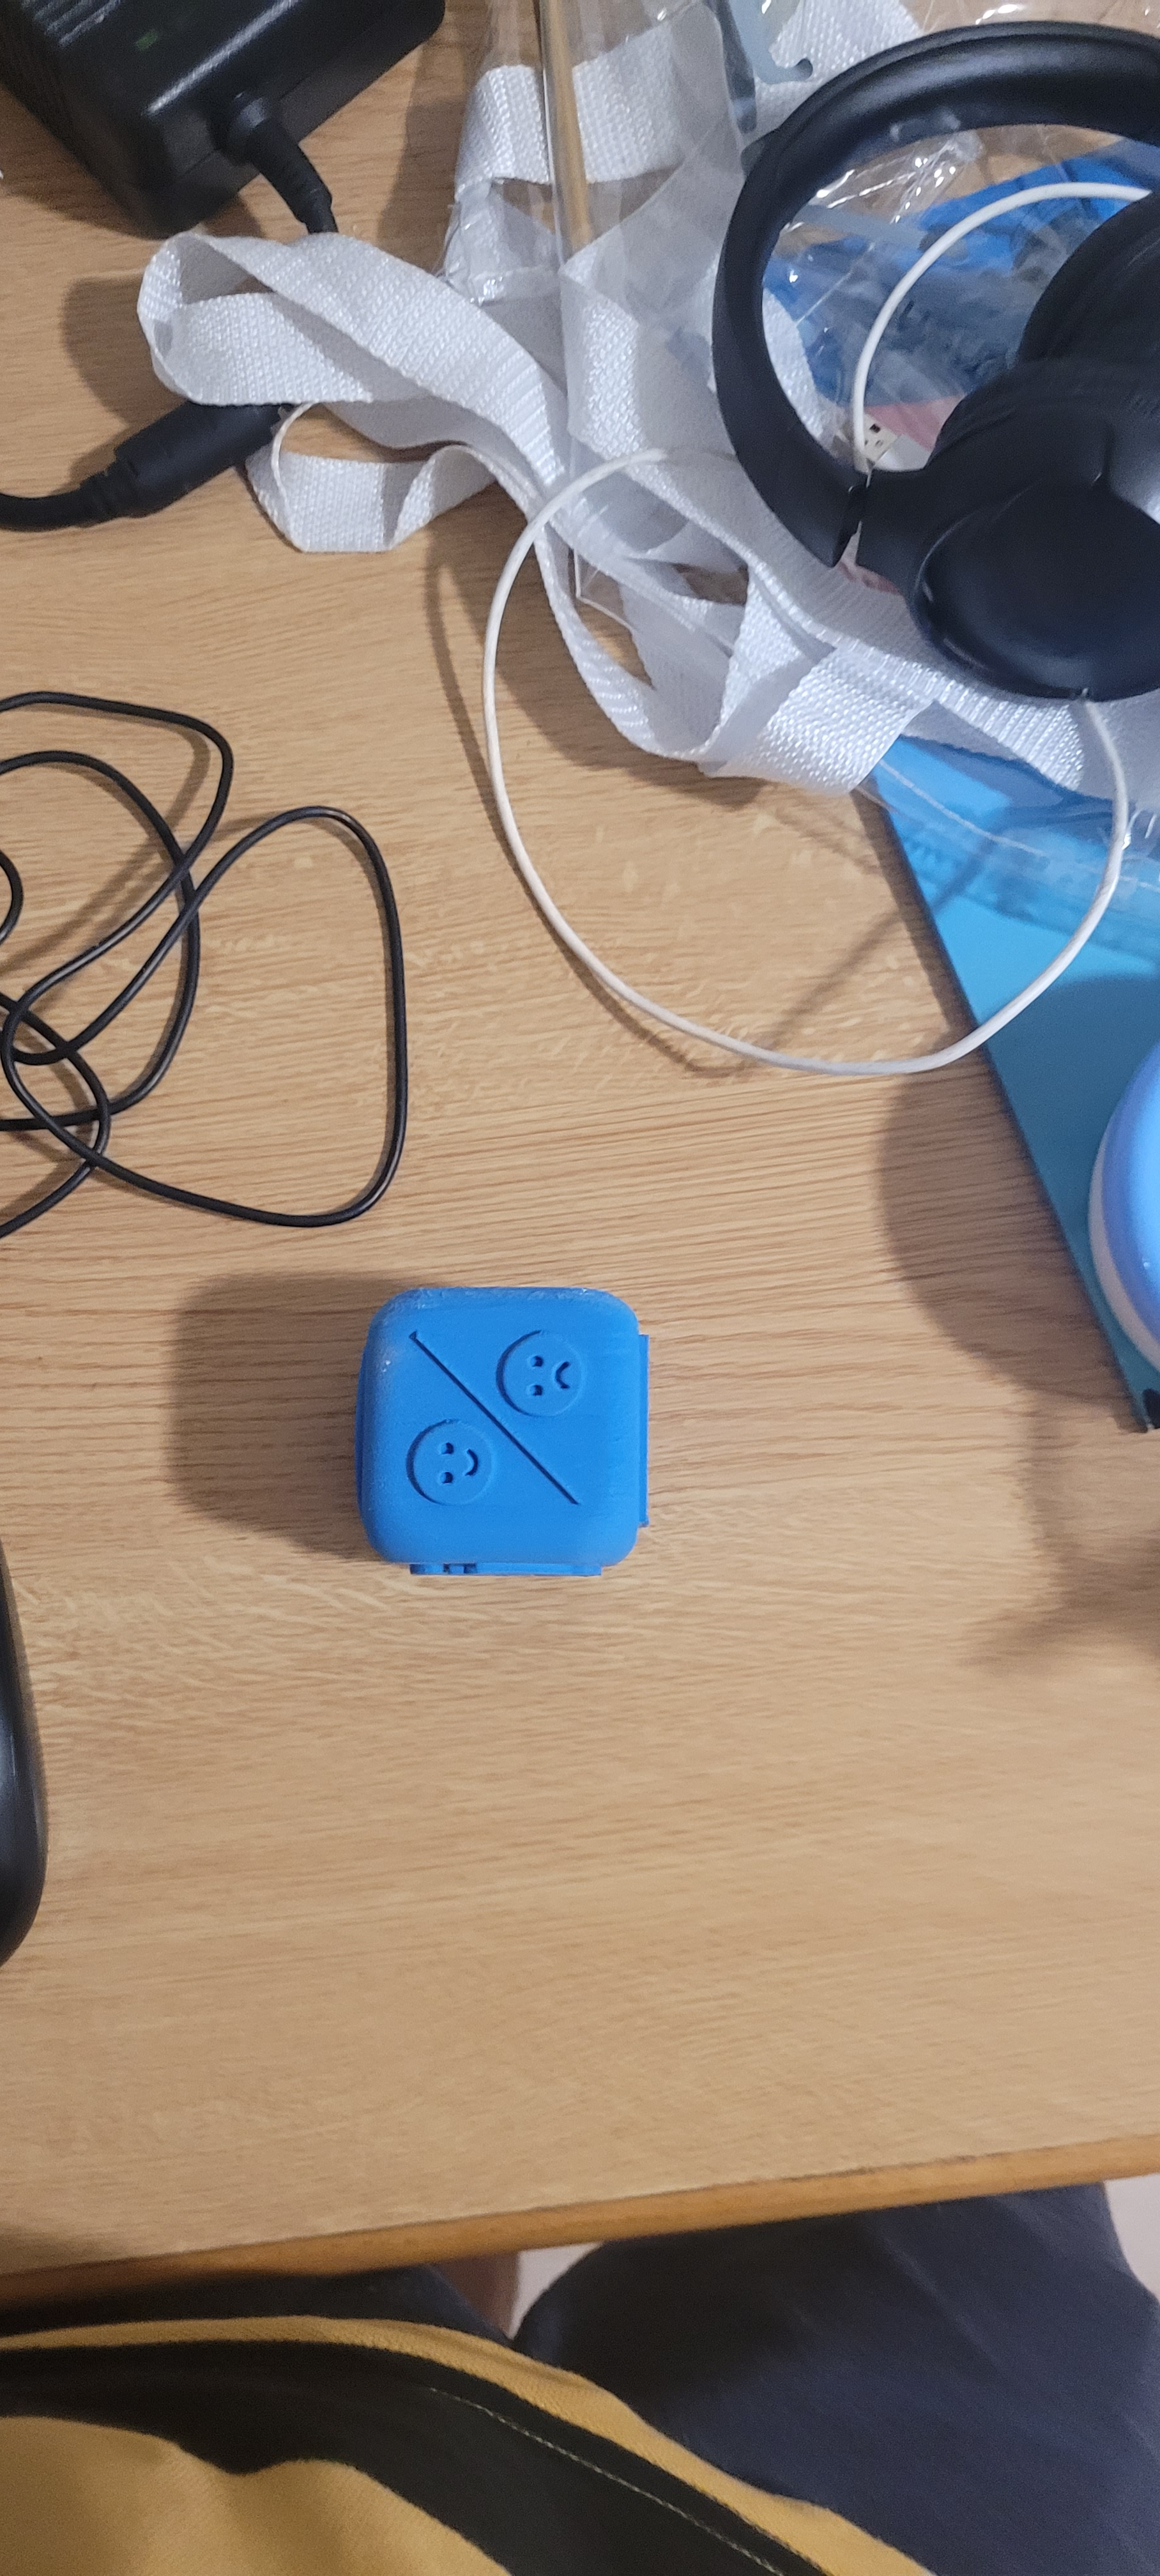Like/Dislike: (376, 1281, 646, 1549)
